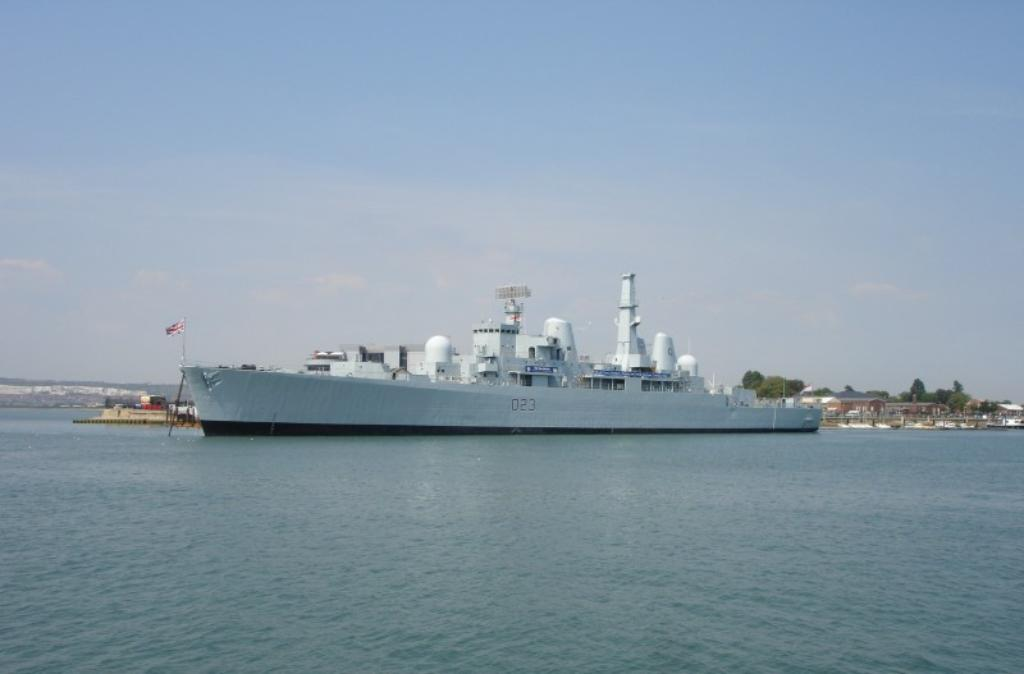Warship: (172, 268, 826, 436)
